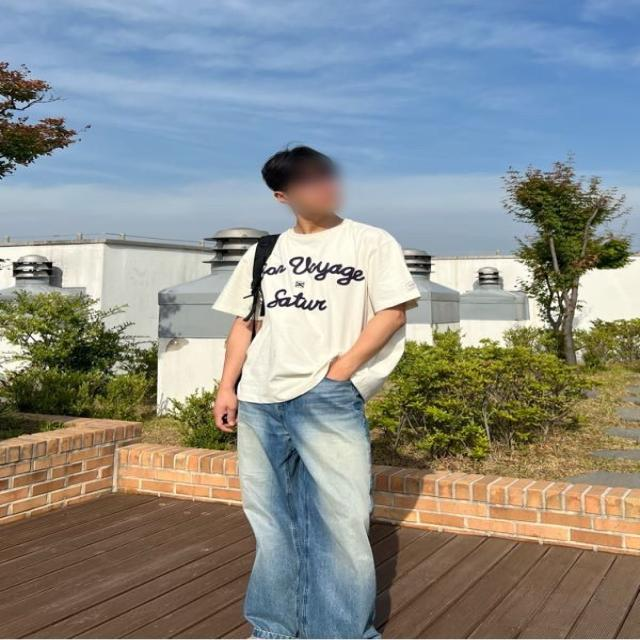denimpants: (235, 377, 377, 640)
shortsleeve: (216, 217, 423, 405)
